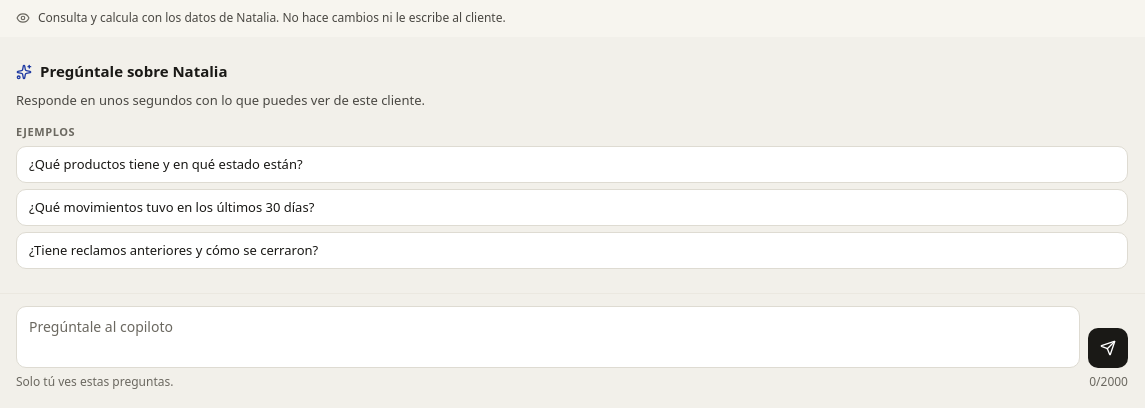
CopilotPanel (the "Copiloto" tab, slice 20) › says quietly that it only reads, and the starter questions only fill the box
Expected: the text "Consulta y calcula con los datos de Natalia. No hace cambios ni le escribe al cliente." is shown, [38,9,506,26]
Expected: the heading "Pregúntale sobre Natalia" is shown, [16,61,228,81]
Click the button "¿Tiene reclamos anteriores y cómo se cerraron?": point(174, 250) [16,232,1128,269]
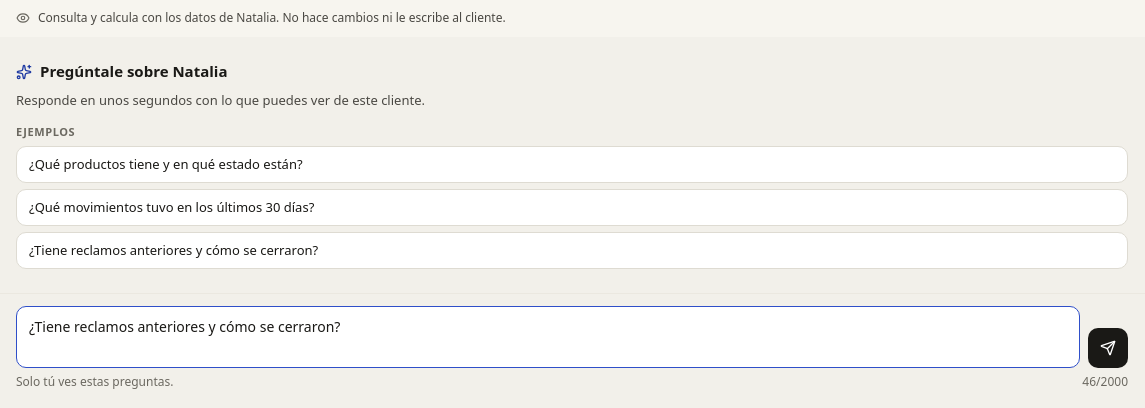
Expected: the text "Solo tú ves estas preguntas." is shown, [16,374,174,391]
Result: the text box named "Pregúntale al copiloto" holds "¿Tiene reclamos anteriores y cómo se cerraron?" at [16,306,1080,368]
